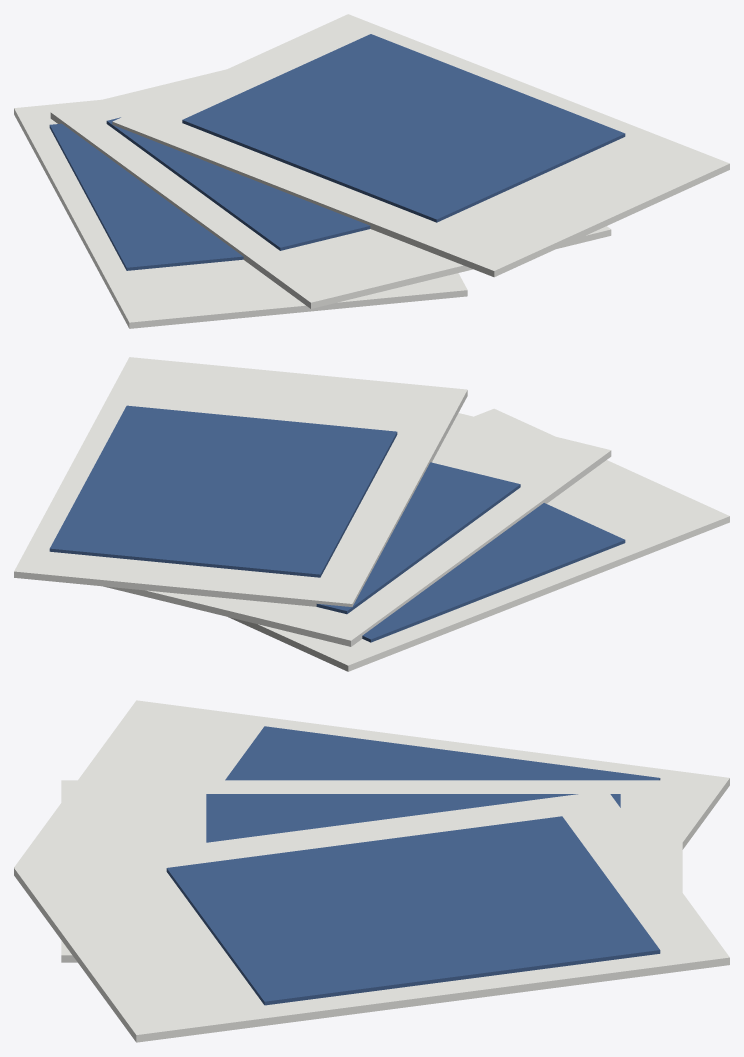
The model's file is prototype_photos.glb.
3 renders of one model, top to bottom at view 1: azimuth 30°, elevation 25°; view 2: azimuth 150°, elevation 25°; view 3: azimuth 270°, elevation 25°, orthographic. The views are drawn at different scales.
Parts seen in each view (by area): view 1: photo_photo_border (×3), picture_photo_picture (×3); view 2: photo_photo_border (×3), picture_photo_picture (×3); view 3: photo_photo_border (×3), picture_photo_picture (×3).
Boxes of the visible parts, x1,y1,x2,y2 form: photo_photo_border (×3): (14, 14, 729, 328); picture_photo_picture (×3): (49, 34, 625, 270); photo_photo_border (×3): (14, 357, 729, 671); picture_photo_picture (×3): (49, 405, 625, 642); photo_photo_border (×3): (14, 700, 729, 1042); picture_photo_picture (×3): (166, 726, 660, 1005).
Bounding box in the file's own units: 0.1999 × 0.007 × 0.1729.
